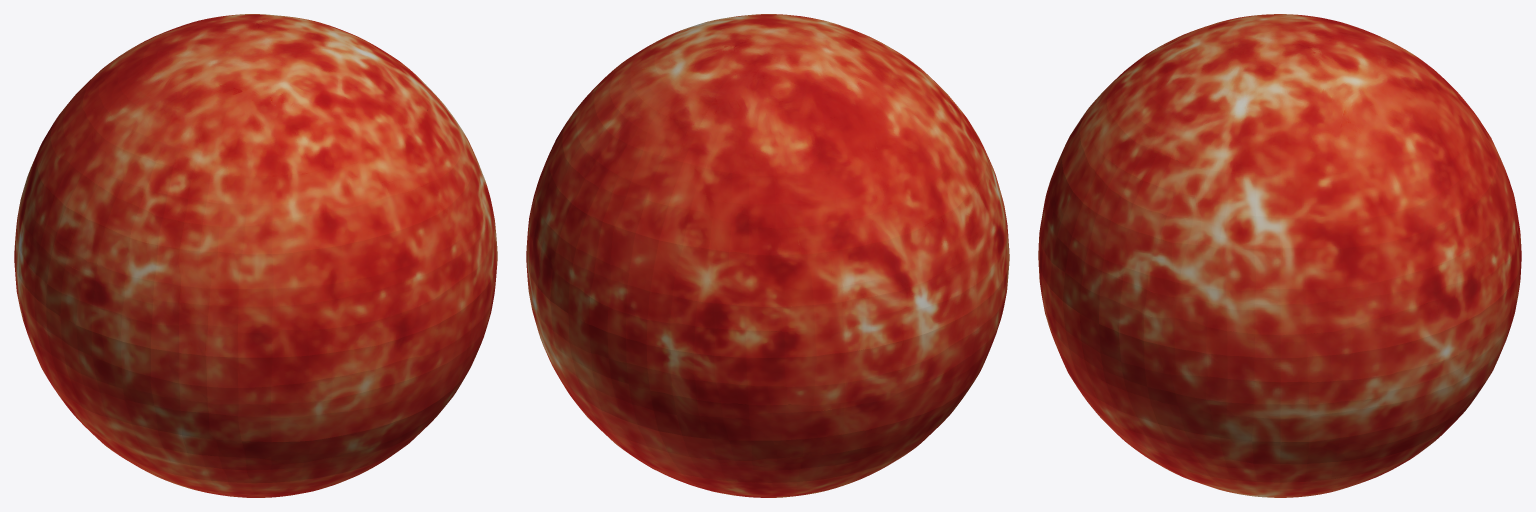
Rendered from 94c06f5f-2f88-4ac2-b087-1eda19cab03d.glb.
3 views of the same model, side by side, from view 1: azimuth 30°, elevation 25°; view 2: azimuth 150°, elevation 25°; view 3: azimuth 270°, elevation 25° (orthographic).
Visible parts, largest first — view 1: world; view 2: world; view 3: world.
Part boxes in pixels (x1,y1,x2,y2): world: (14,14,497,497); world: (526,14,1009,497); world: (1038,14,1521,497).
Bounding box in the file's own units: 0.9995 × 0.9981 × 0.9996.
Materials: 1 (1 with a texture image).
